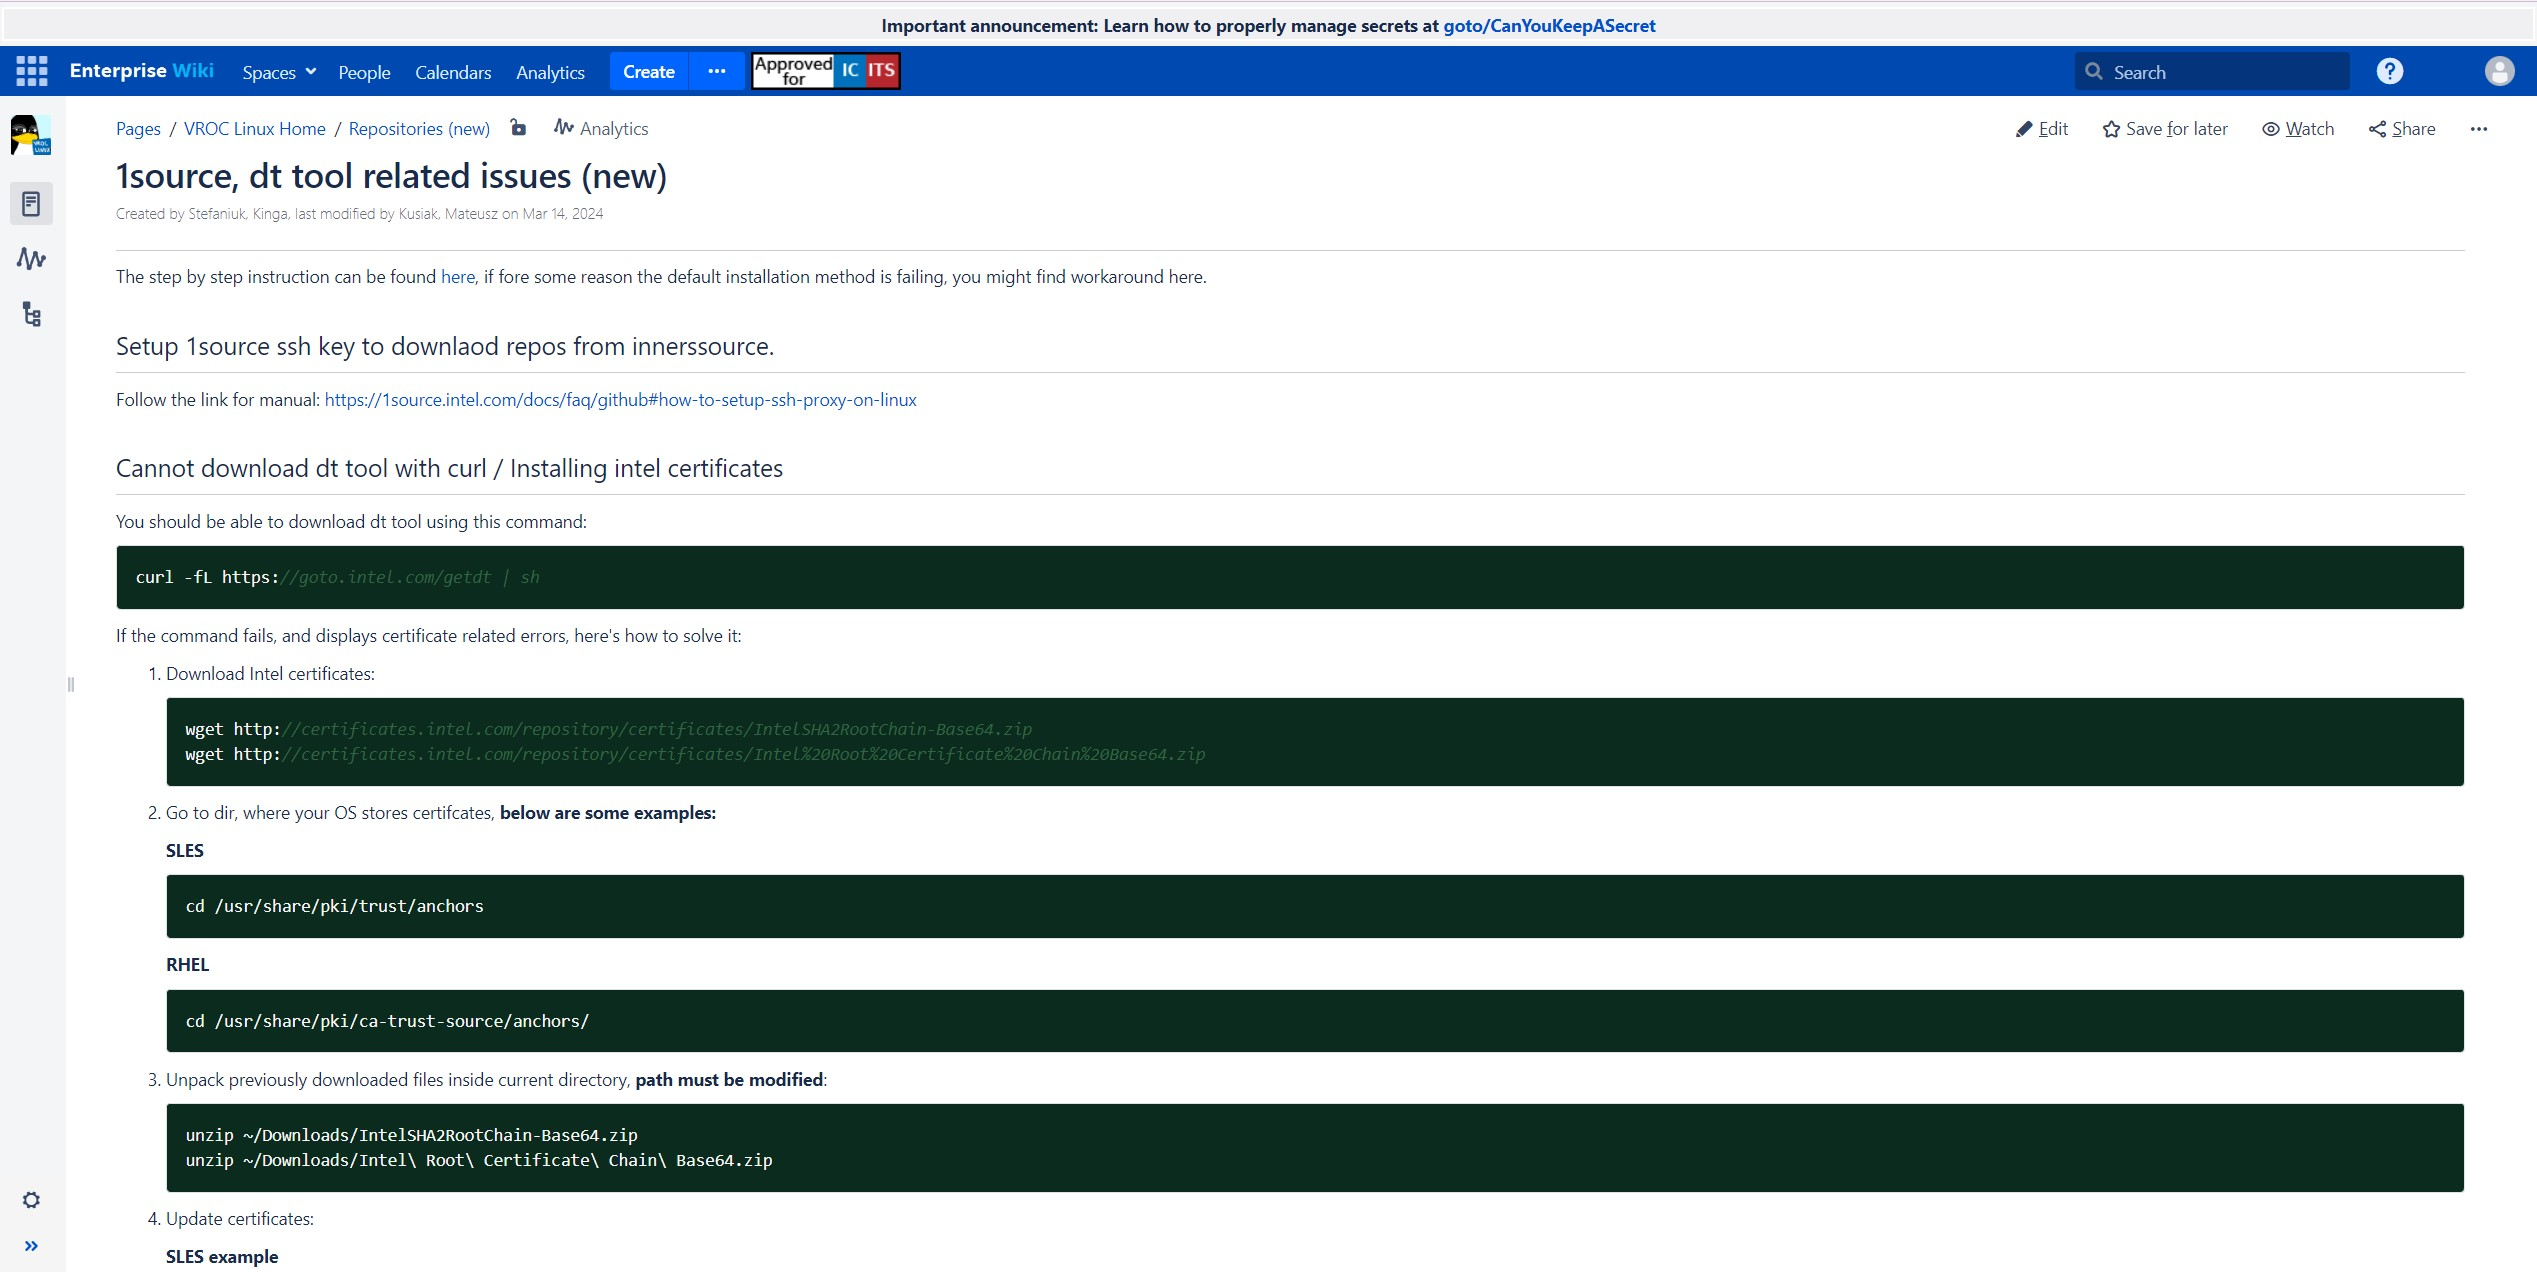button_create: (605, 50, 693, 96)
search_box: (2071, 44, 2354, 94)
